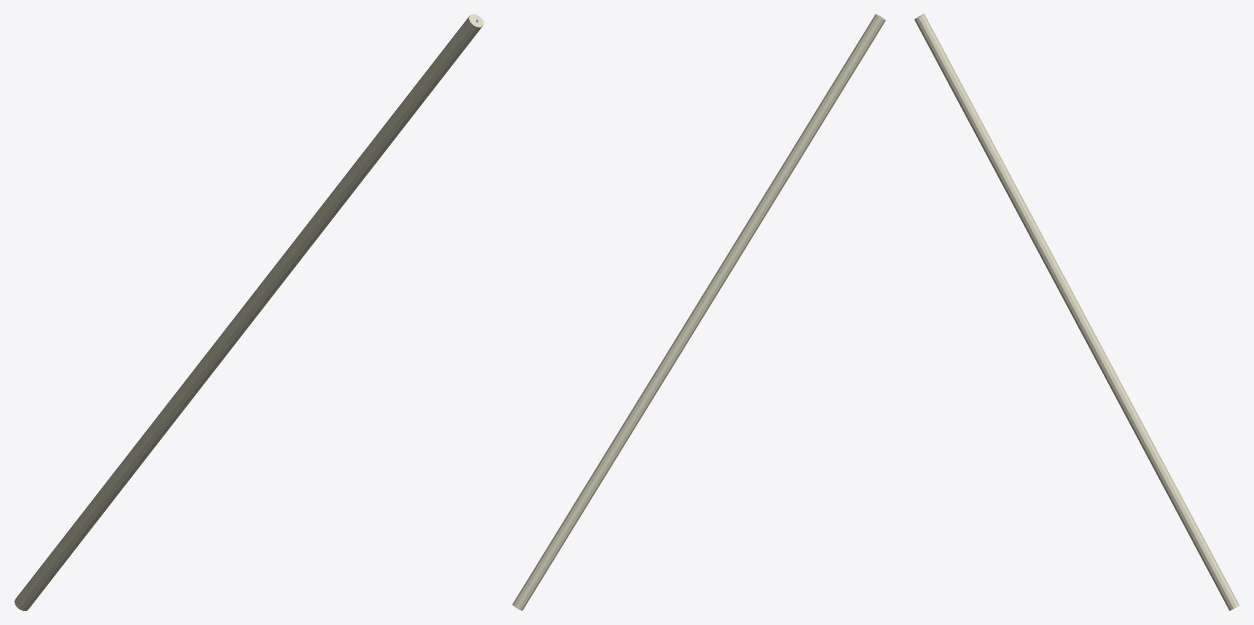
The model's file is tile_499.glb.
The picture shows the model from 3 angles, left to right: view 1: azimuth 90°, elevation 25°; view 2: azimuth 150°, elevation 25°; view 3: azimuth 270°, elevation 25°; orthographic projection. The views are drawn at different scales.
Bounding box in the file's own units: 4.92 × 11.81 × 6.91.
